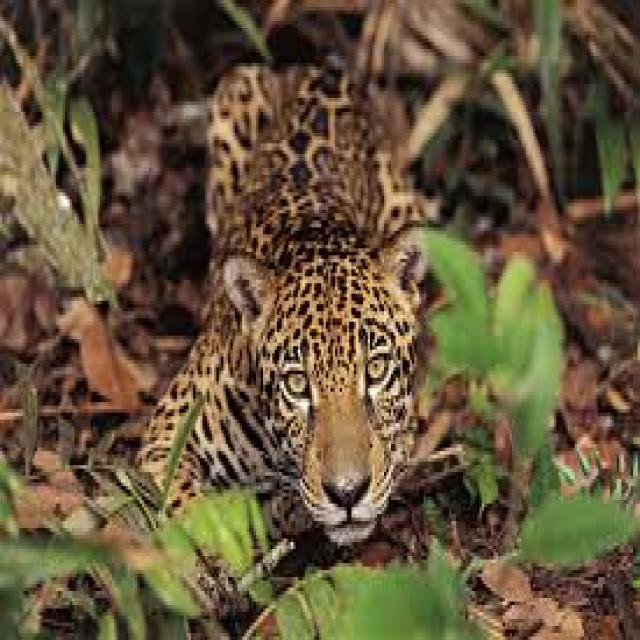Jaguar: (184, 38, 437, 560)
